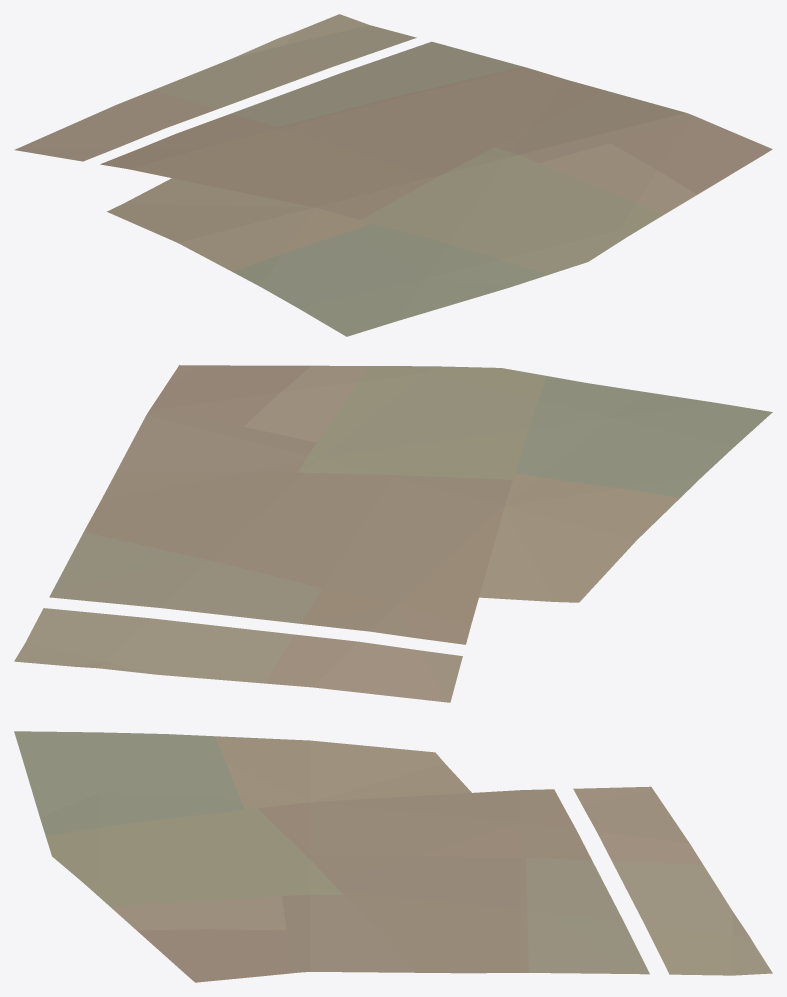
Rendered from farm_-3_-8_soil.glb.
3 renders of one model, top to bottom at view 1: azimuth 30°, elevation 25°; view 2: azimuth 150°, elevation 25°; view 3: azimuth 270°, elevation 25°, orthographic. The views are drawn at different scales.
Parts seen in each view (by area): view 1: geometry_0; view 2: geometry_0; view 3: geometry_0.
Part boxes in pixels (x1=…): geometry_0: x1=14, y1=14, x2=772, y2=336; geometry_0: x1=14, y1=365, x2=772, y2=702; geometry_0: x1=14, y1=731, x2=772, y2=982.
Bounding box in the file's own units: 226 × 25.23 × 287.
